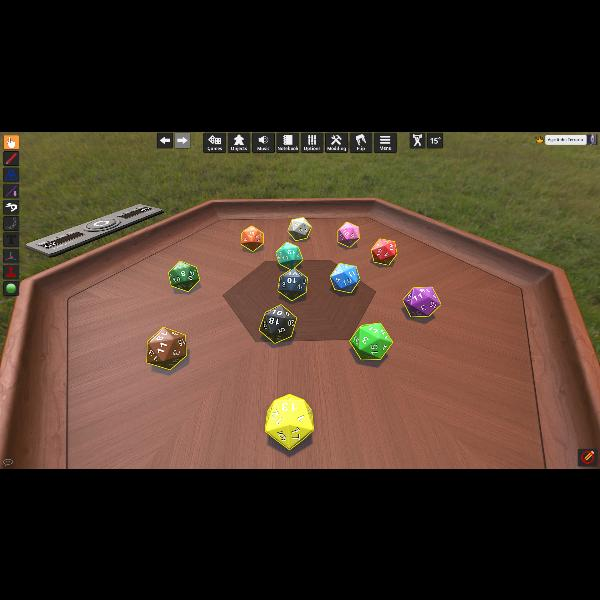d20: (264, 394, 314, 448), (147, 326, 189, 370), (348, 322, 390, 360), (259, 305, 297, 343), (403, 286, 442, 318), (276, 268, 308, 300), (168, 260, 200, 292), (330, 262, 358, 292), (371, 238, 398, 266), (276, 241, 302, 267), (240, 226, 264, 250), (336, 221, 358, 247), (288, 217, 311, 241)
